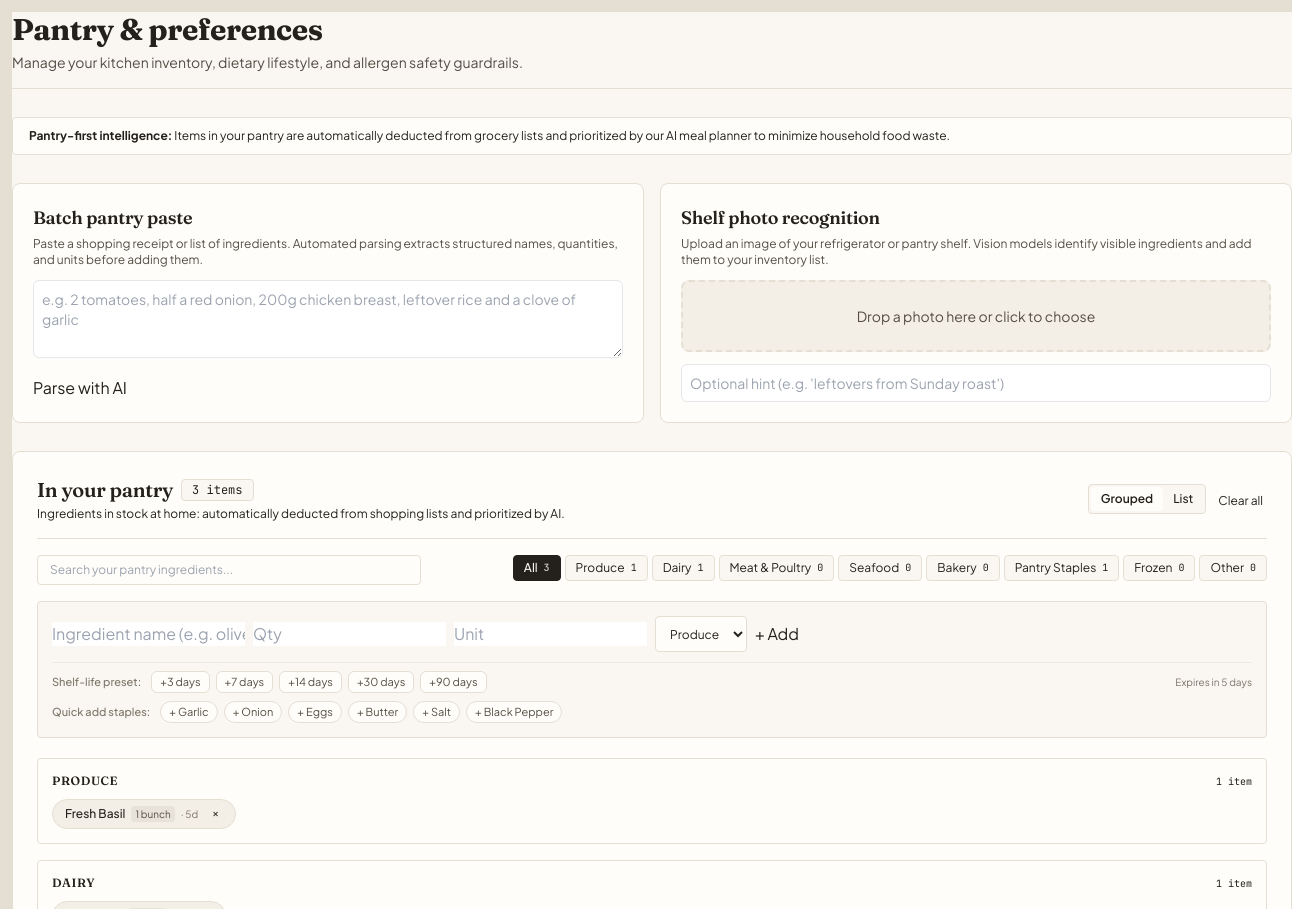
Test: PantryPage & Modern Minimalist Pantry UI › allows switching view mode to List table view
# Switch to List view
Click the button "List" at (1183, 499), box [1163,487,1203,511]
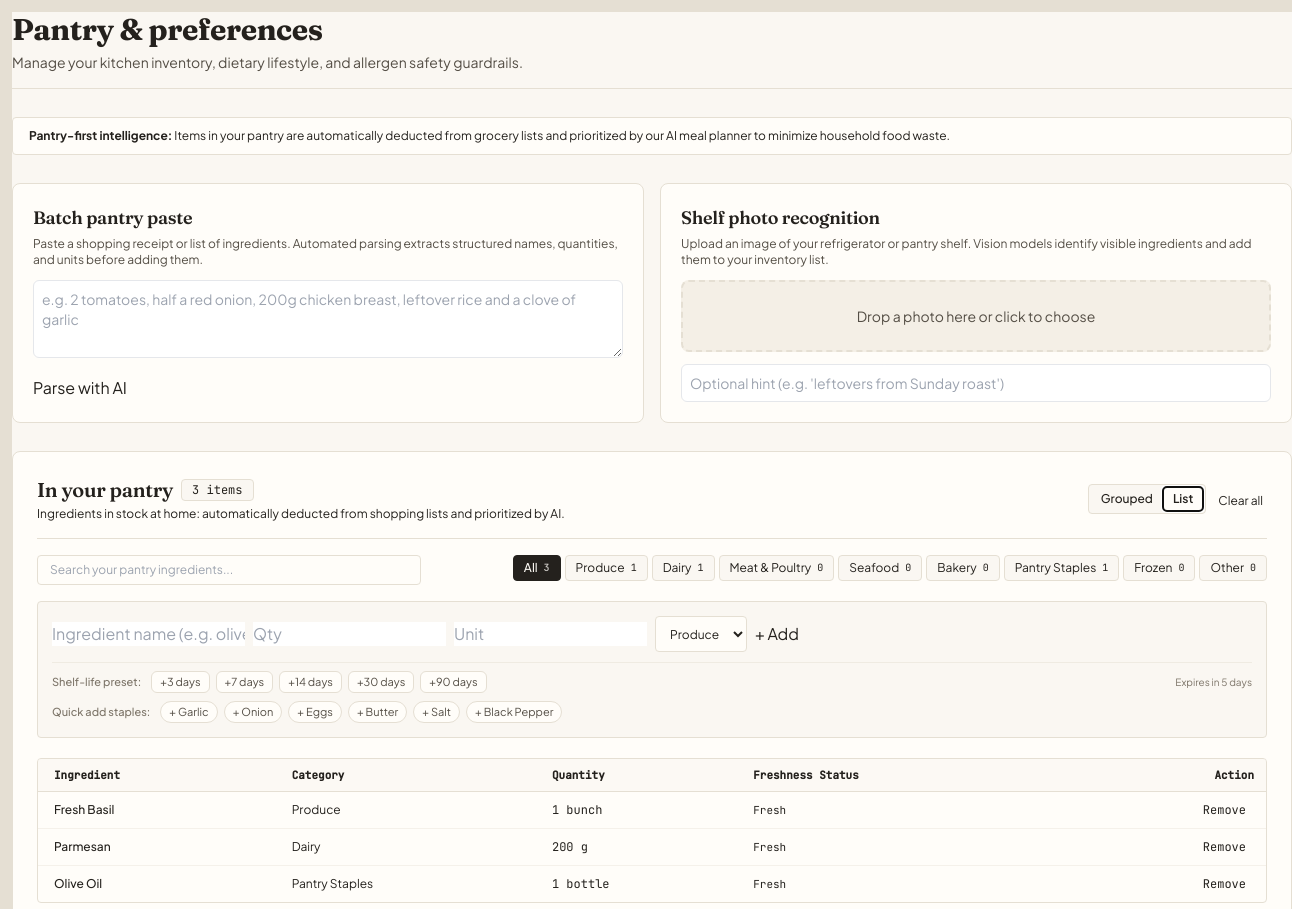
Check: the table is shown, box [38,759,1266,902]
Check: the column heading "Freshness Status" is shown, box [741,759,1061,792]
